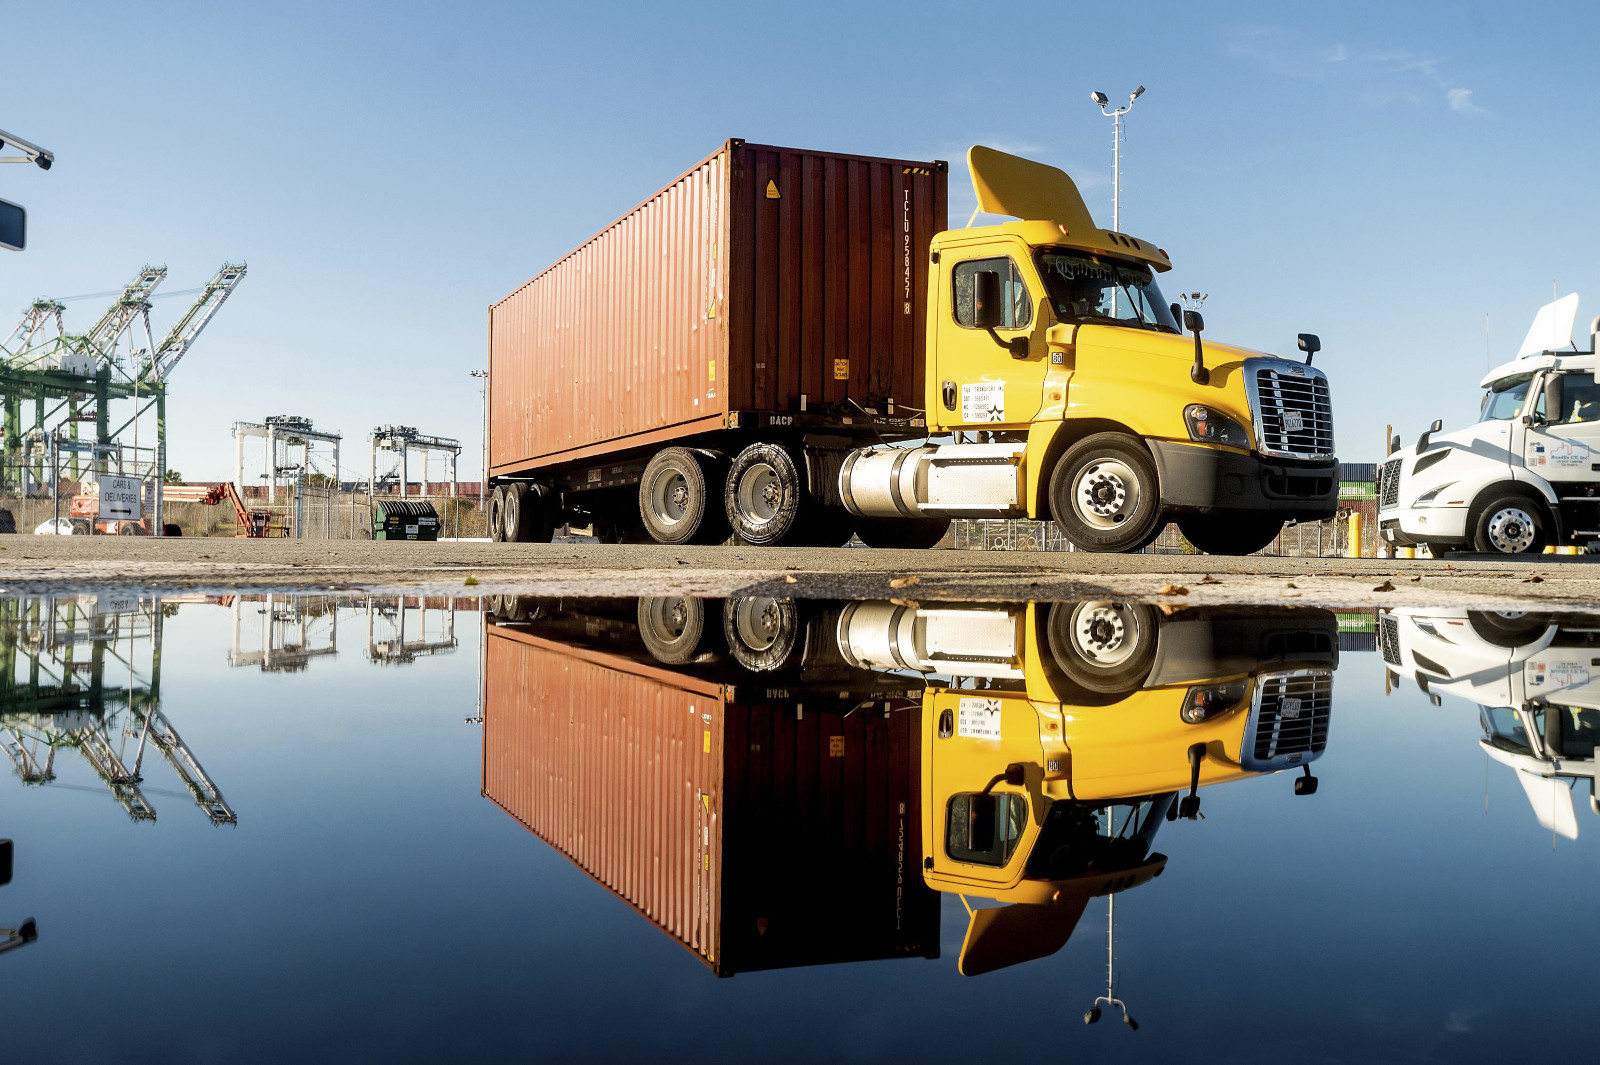truck: (276, 102, 975, 531)
